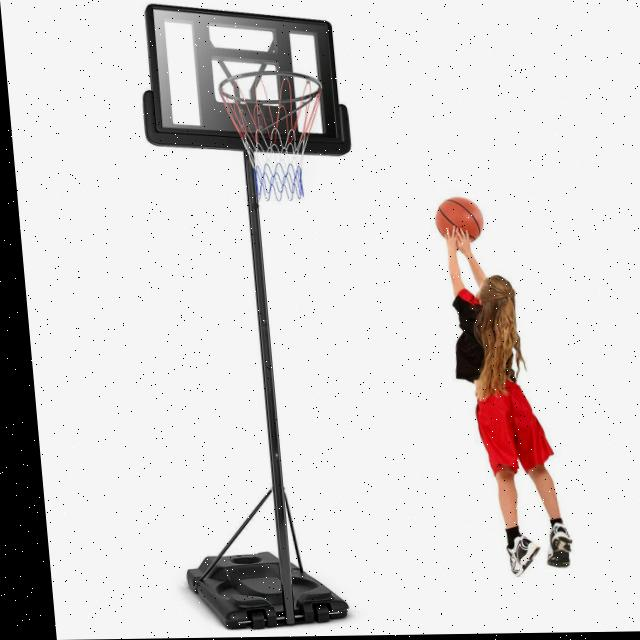basketball: (434, 196, 486, 244)
hoop: (218, 70, 333, 201)
